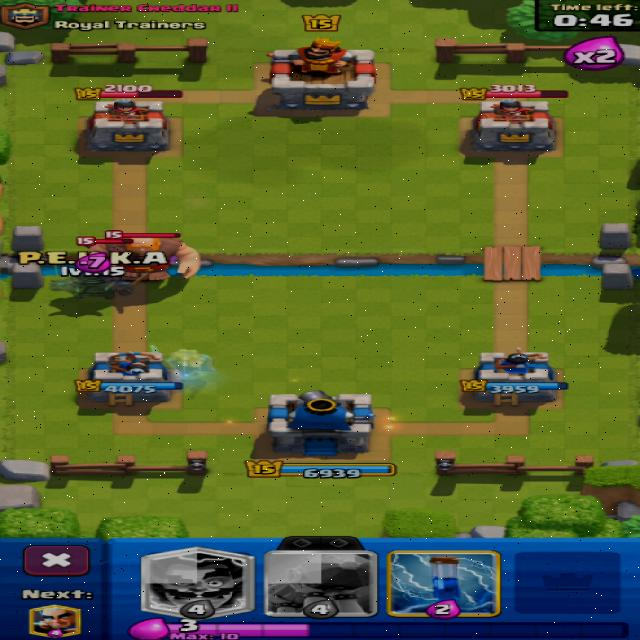Enemy-Giant: (92, 236, 198, 280)
Enemy-KingTower: (271, 37, 374, 110)
Enemy-PrincessTower: (86, 99, 168, 150), (473, 100, 554, 151)
Player-KingTower-Activated: (267, 390, 374, 456)
Player-PrincessTower: (74, 352, 183, 405), (474, 348, 561, 405)
Player-RoyalGhost: (165, 349, 214, 378), (150, 345, 159, 352)
